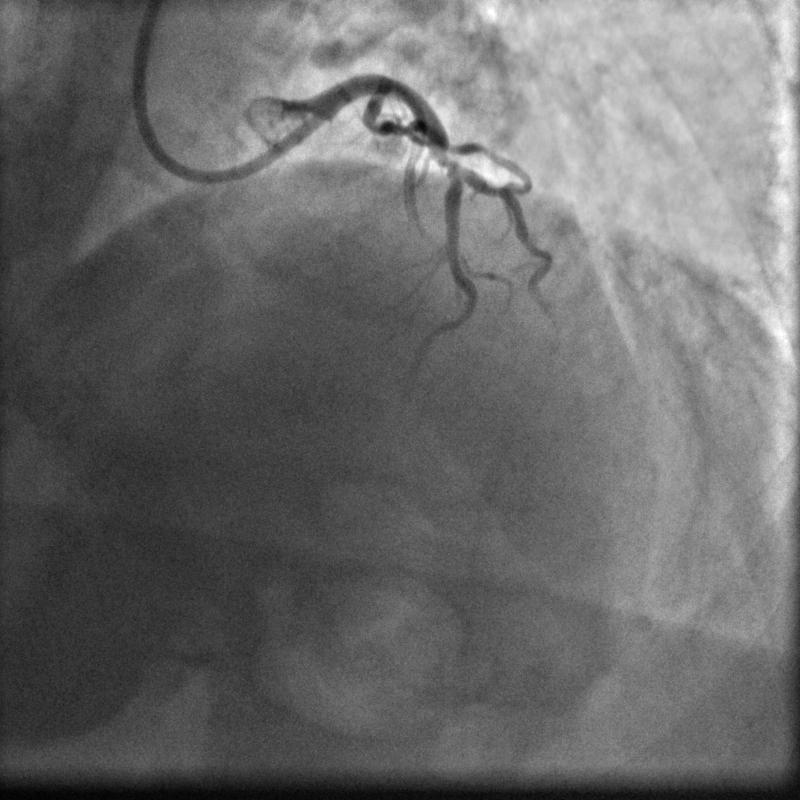Stenosis: (430, 152, 465, 173)
